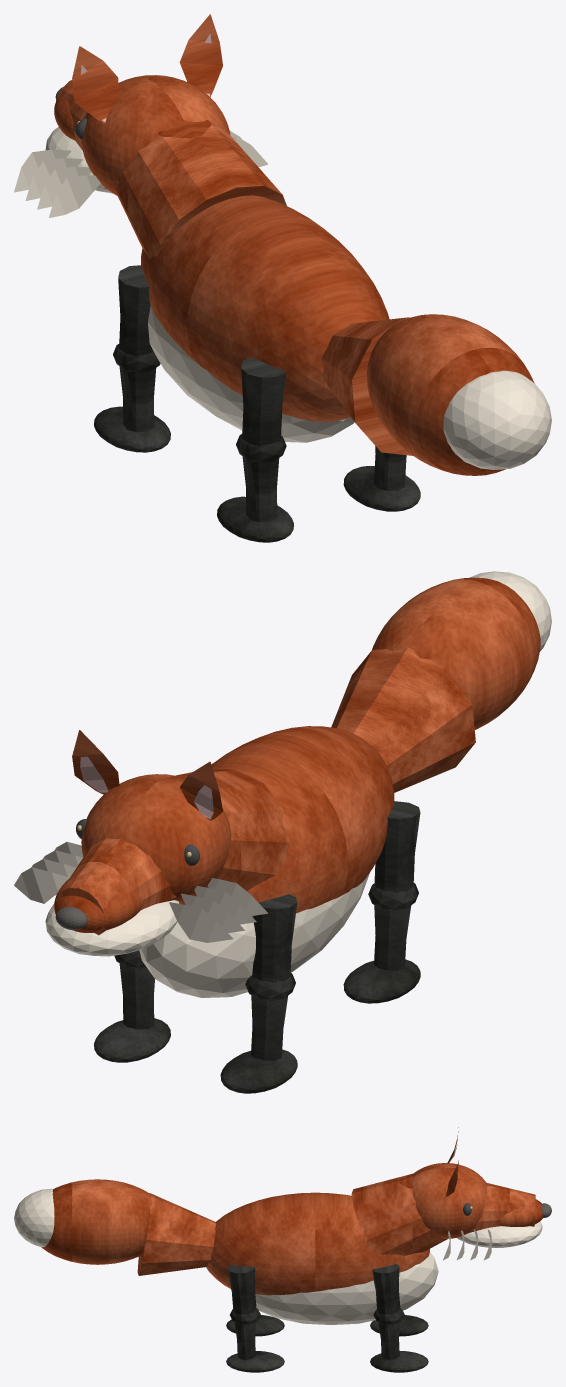
The model's file is Fox_Red.glb.
The picture shows the model from 3 angles, top to bottom: view 1: azimuth 30°, elevation 25°; view 2: azimuth 150°, elevation 25°; view 3: azimuth 270°, elevation 25°; orthographic projection. The views are drawn at different scales.
Parts seen in each view (by area): view 1: Baked_Fox coat, Baked_Cream fur, Baked_Black fur, leg_bl, leg_fl, leg_br; view 2: Baked_Fox coat, Baked_Cream fur, Baked_Black fur, leg_fl, leg_bl, leg_fr, Baked_Ear inside; view 3: Baked_Fox coat, Baked_Cream fur, Baked_Black fur, leg_br, leg_fr.
Part boxes in pixels (x1,y1,x2,y2): Baked_Fox coat: (54,14,534,475); Baked_Cream fur: (14,127,551,469); Baked_Black fur: (94,406,420,542); leg_bl: (236,357,286,522); leg_fl: (113,265,160,432); leg_br: (374,446,406,490); Baked_Fox coat: (54,577,540,935); Baked_Cream fur: (14,571,551,997); Baked_Black fur: (94,959,420,1093); leg_fl: (245,894,297,1060); leg_bl: (368,801,420,970); leg_fr: (114,950,154,1029); Baked_Ear inside: (80,756,213,818); Baked_Fox coat: (41,1127,542,1295); Baked_Cream fur: (14,1188,542,1324); Baked_Black fur: (226,1315,428,1372); leg_br: (227,1264,260,1360); leg_fr: (372,1264,404,1360).
Size of the model in its own units: 0.7618 by 1.19 by 2.77.
Materials: 7 (3 with a texture image).
